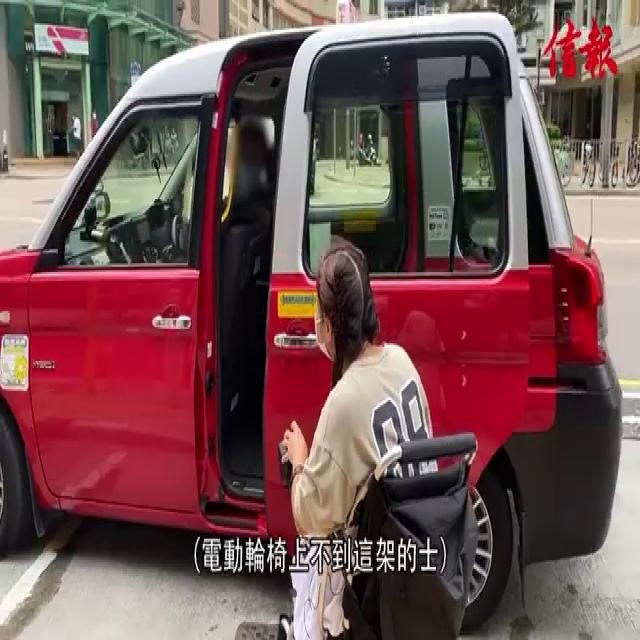wheelchairs: (256, 376, 497, 640)
